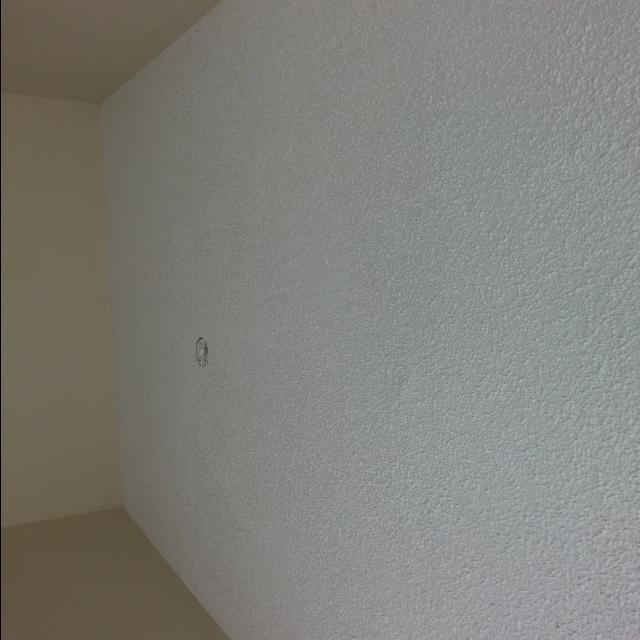Crack: (203, 344, 208, 356)
